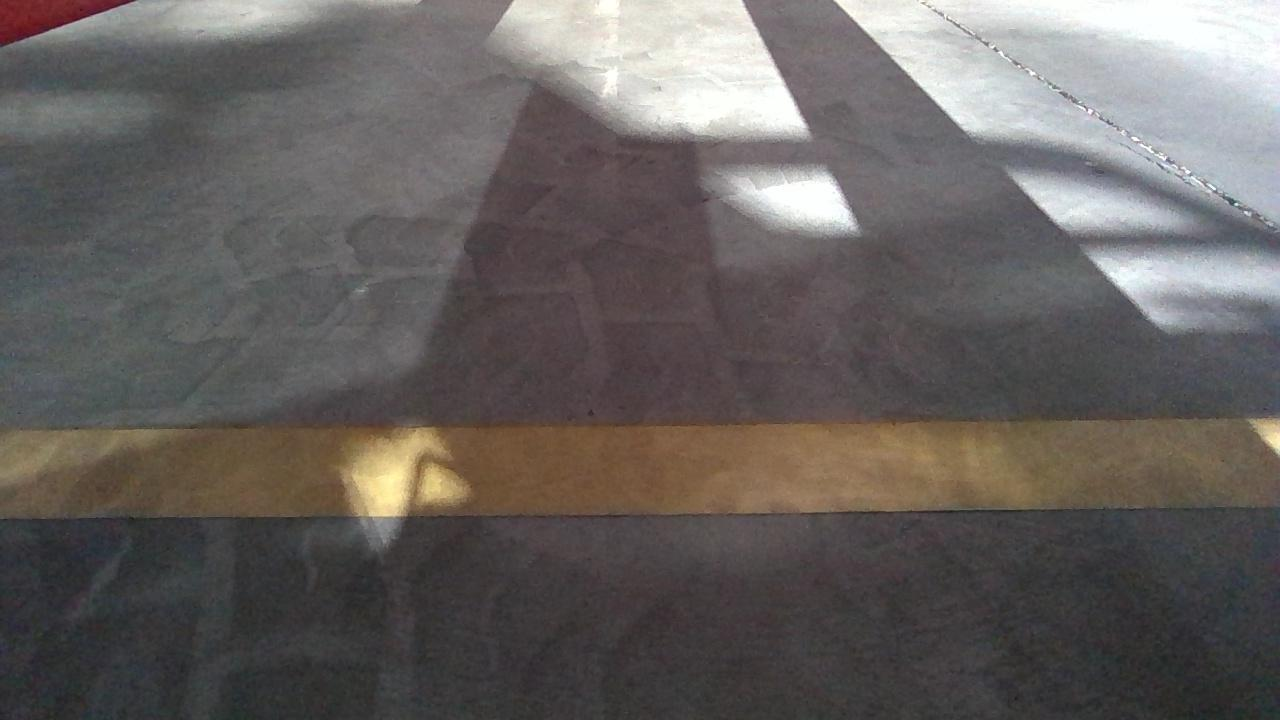yellow_line: (20, 413, 1280, 517)
